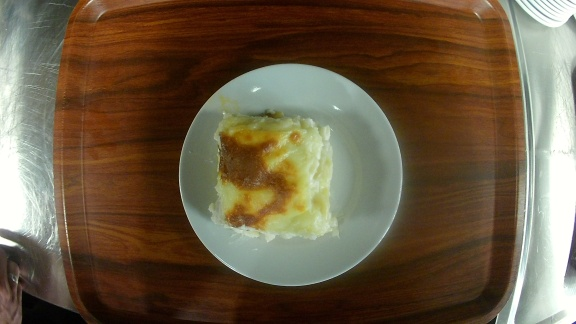firinmakarna: (177, 59, 405, 288)
